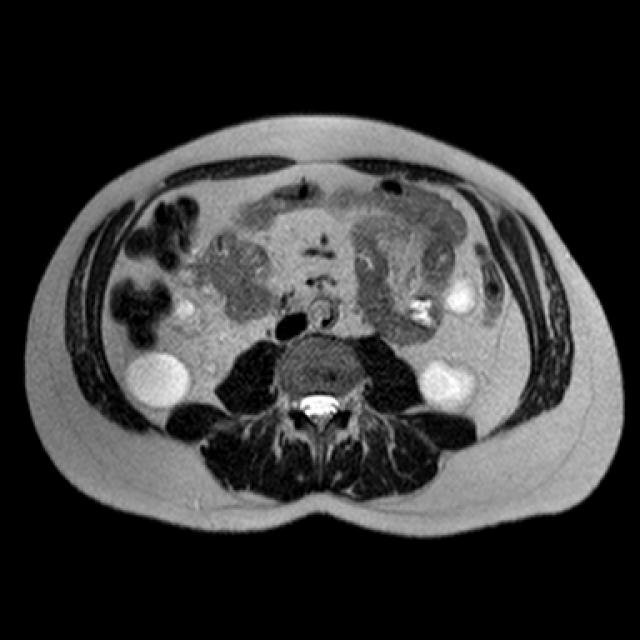sag: (123, 352, 195, 411), (161, 299, 205, 339), (201, 356, 221, 374), (218, 329, 224, 342)
sol: (418, 355, 483, 414)
